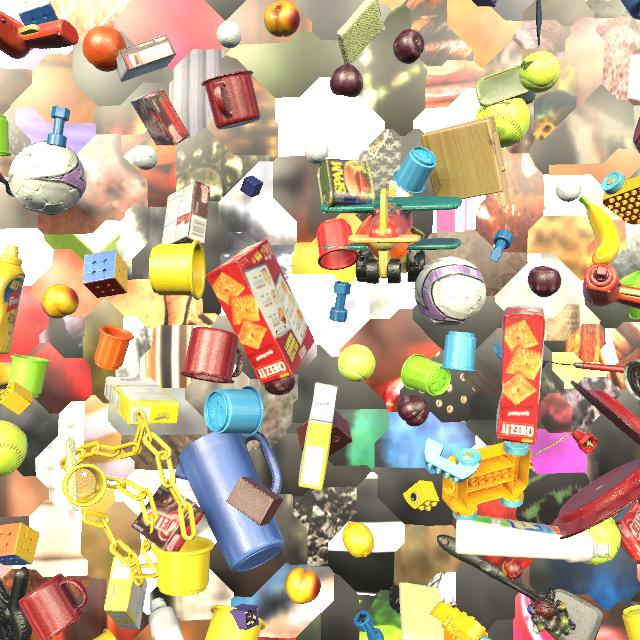ycb_003_cracker_box: (206, 239, 314, 385), (496, 306, 545, 444)
ycb_004_sugar_box: (299, 383, 338, 490), (104, 377, 180, 425), (104, 557, 148, 630)
ycb_005_tomato_soup_can: (623, 359, 640, 401)
ycb_006_mustard_bottle: (0, 245, 25, 354), (0, 362, 12, 390)
ycb_008_pudding_box: (131, 484, 205, 552), (130, 89, 190, 146), (161, 181, 210, 244), (116, 34, 176, 82)
ycb_009_gelatin_box: (614, 500, 640, 562)
ycb_010_potted_meat_can: (317, 157, 375, 214), (475, 64, 537, 107)
ycb_011_banana: (579, 196, 619, 265)
ycb_014_lemon: (342, 521, 374, 558)
ycb_015_peach: (264, 0, 300, 37), (285, 567, 321, 604), (41, 284, 79, 319)
ycb_017_orange: (82, 26, 127, 72)
ycb_018_plum: (330, 64, 363, 98), (393, 29, 424, 64), (397, 394, 429, 426), (528, 266, 561, 297), (264, 375, 295, 395)
